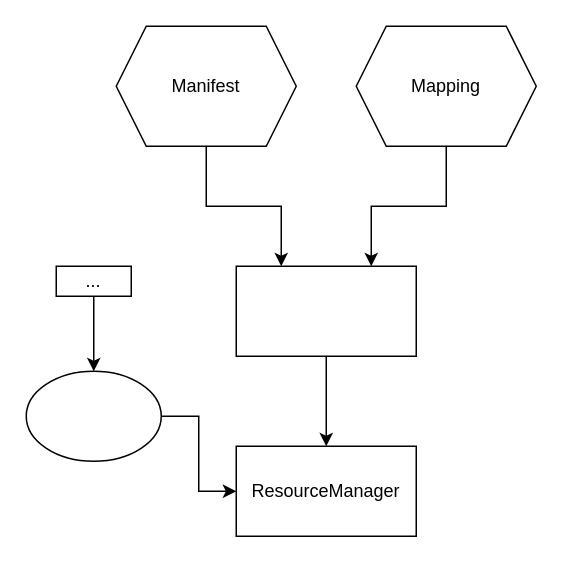
This 563x563 diagram has some shape labels left out. Here are the shapes that lost their labels. From the top down, the box of each, then its label:
(235, 265, 416, 356): ResourceLoader
(25, 370, 161, 461): Loaders UnLoaders
